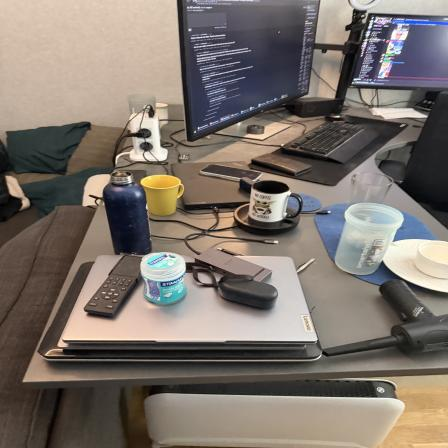blue_bottle: (103, 169, 158, 252)
phone: (255, 154, 315, 178), (202, 162, 260, 185)
yellow_cup: (141, 173, 186, 218)
